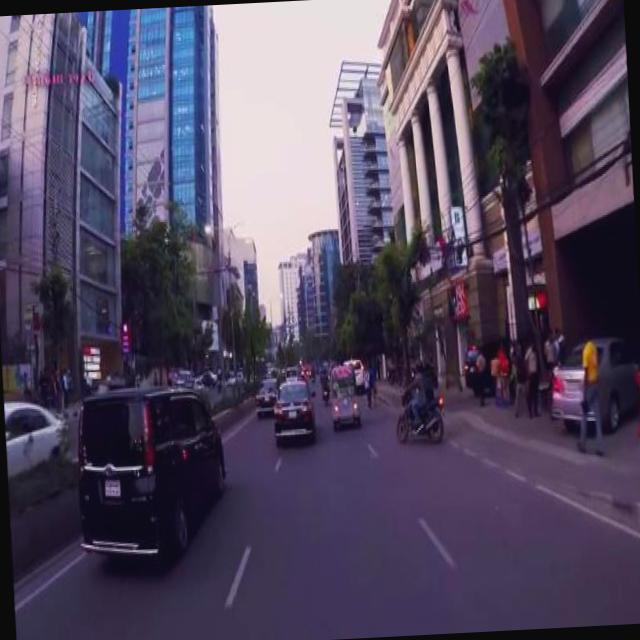car: (550, 330, 640, 424), (6, 395, 72, 476), (465, 329, 521, 388), (273, 375, 319, 436), (255, 373, 282, 410)
motorcycle: (396, 382, 448, 442), (330, 362, 360, 422), (322, 376, 331, 399)
truck: (74, 379, 231, 557)
